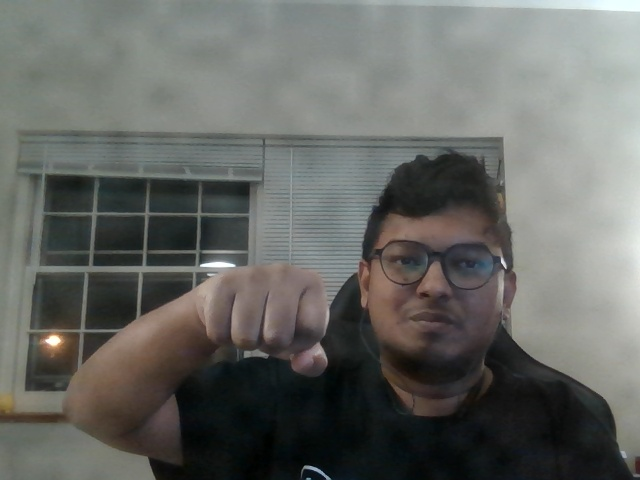yes: (151, 248, 352, 391)
